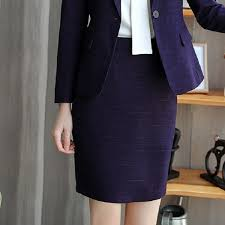F_tailored skirt: (59, 34, 184, 209)
